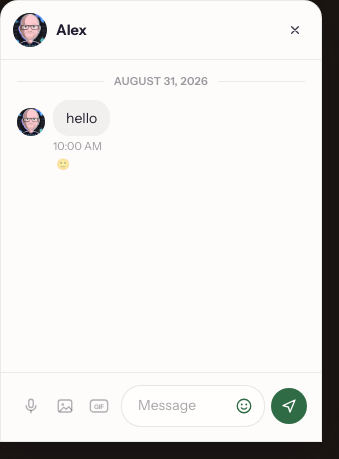
Scenario: MessageReactions in ConversationView (DM) › adds a reaction via the picker, then toggles it off by clicking the chip
Check: the text "hello" is shown, box x1=53 y1=100 x2=110 y2=136
Click the button named "Add a reaction" at (63, 164), box x1=53 y1=155 x2=73 y2=173
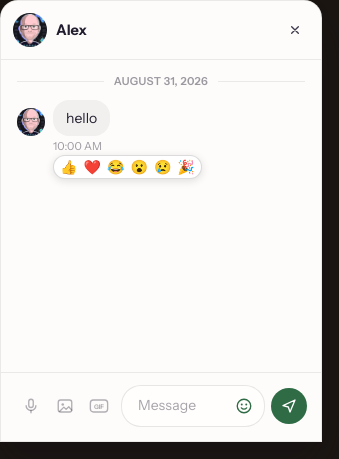
Click the button named "React with 👍" at (69, 167), box x1=58 y1=158 x2=80 y2=176
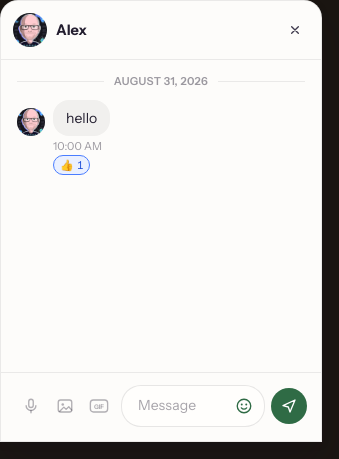
Note: Clicking your own chip removes it rather than adding a duplicate.
Click the button "👍 1" at (72, 165), box x1=53 y1=155 x2=90 y2=175
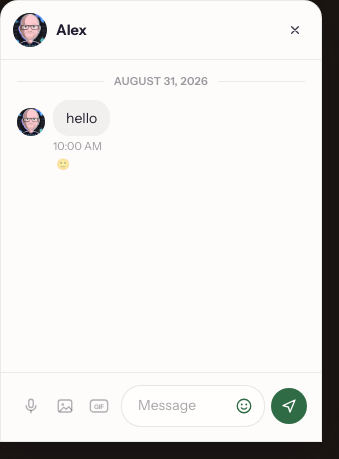
Check: the button "👍 1" is gone
